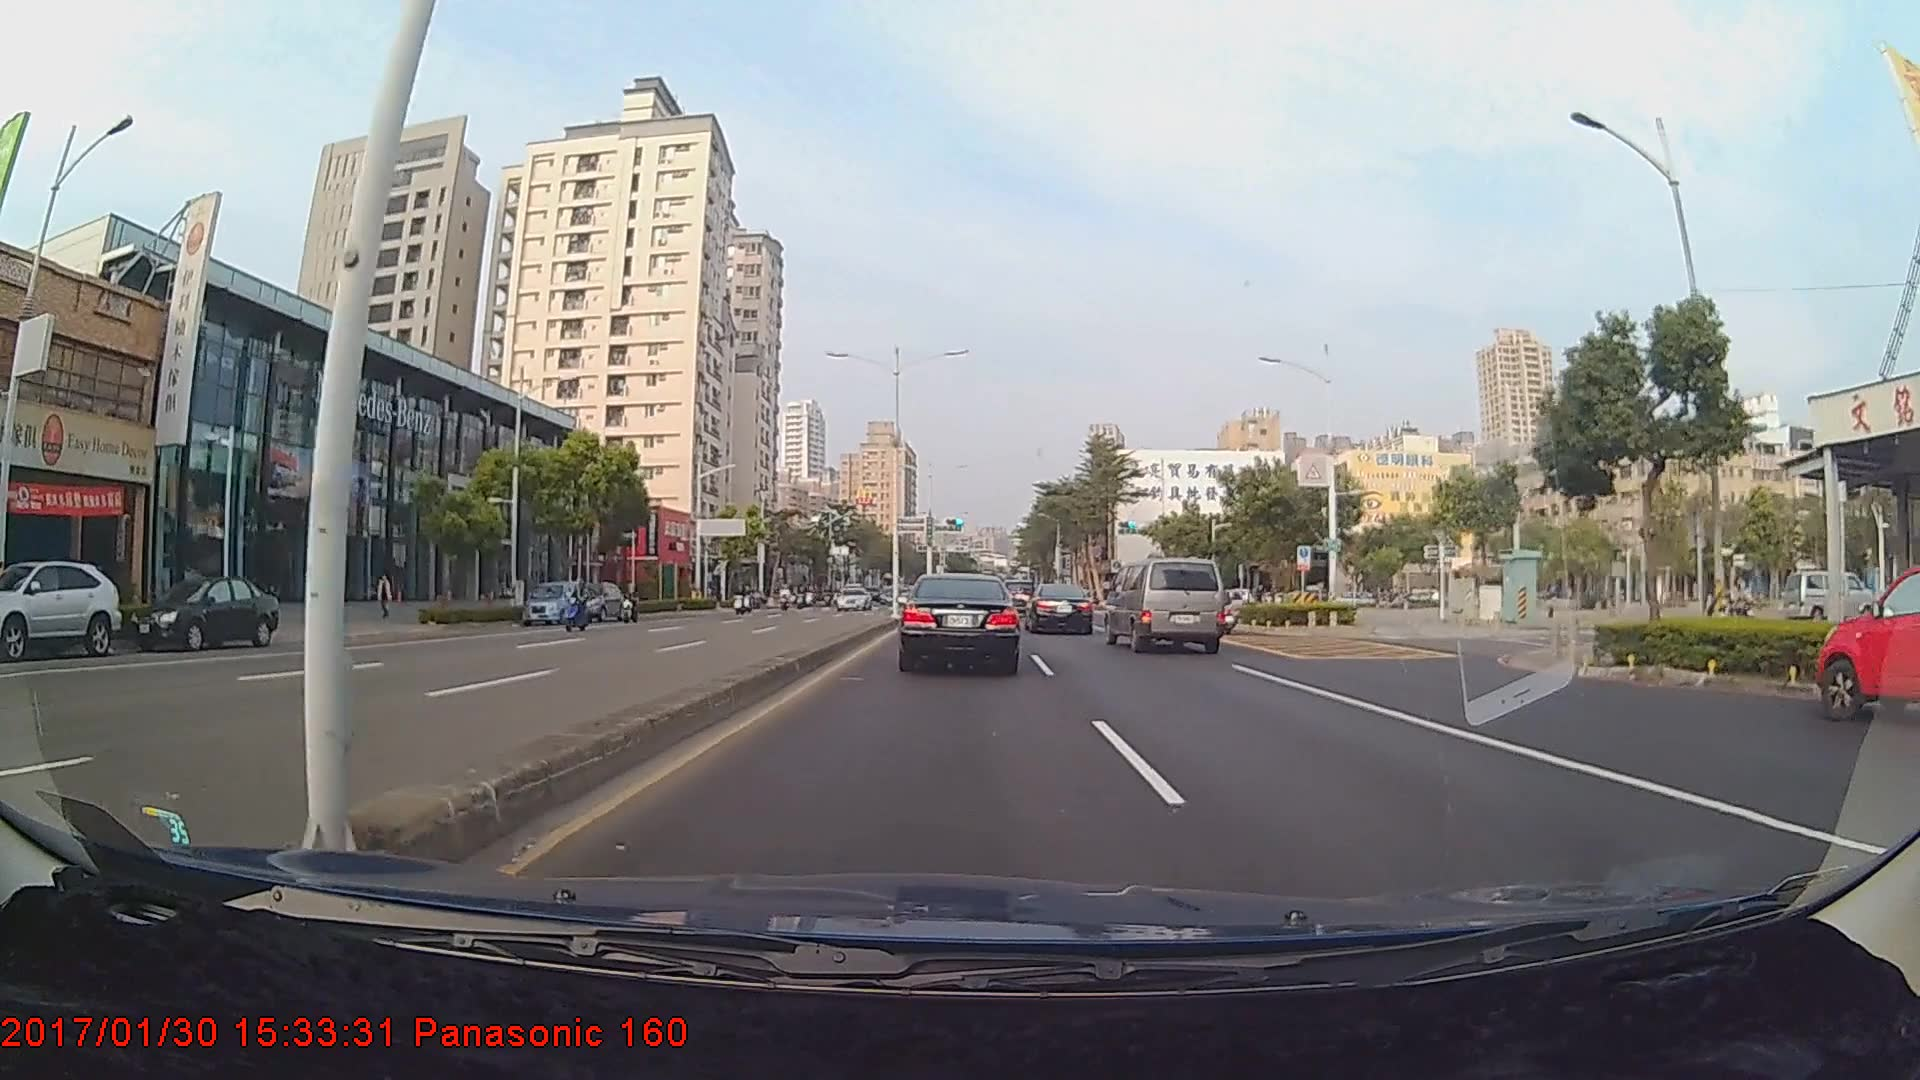pedestrian: (375, 572, 397, 622)
rider: (564, 577, 595, 636), (619, 578, 647, 625)
vehicle: (1813, 556, 1918, 721), (898, 572, 1019, 674), (0, 558, 121, 660), (124, 574, 279, 651), (1104, 557, 1225, 654), (1025, 583, 1095, 636), (521, 578, 585, 624), (571, 580, 622, 622), (832, 584, 872, 611)
